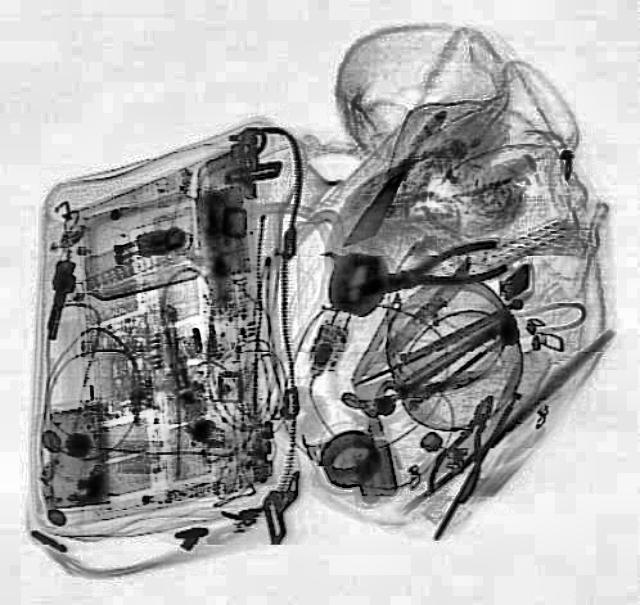Pliers: (357, 234, 508, 308), (422, 386, 512, 506)
